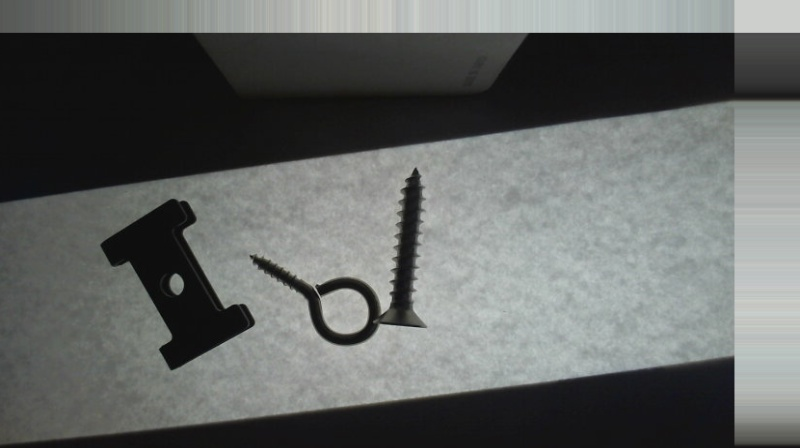O001: (246, 252, 382, 346)
O002: (99, 194, 253, 373)
S001: (372, 166, 429, 332)
